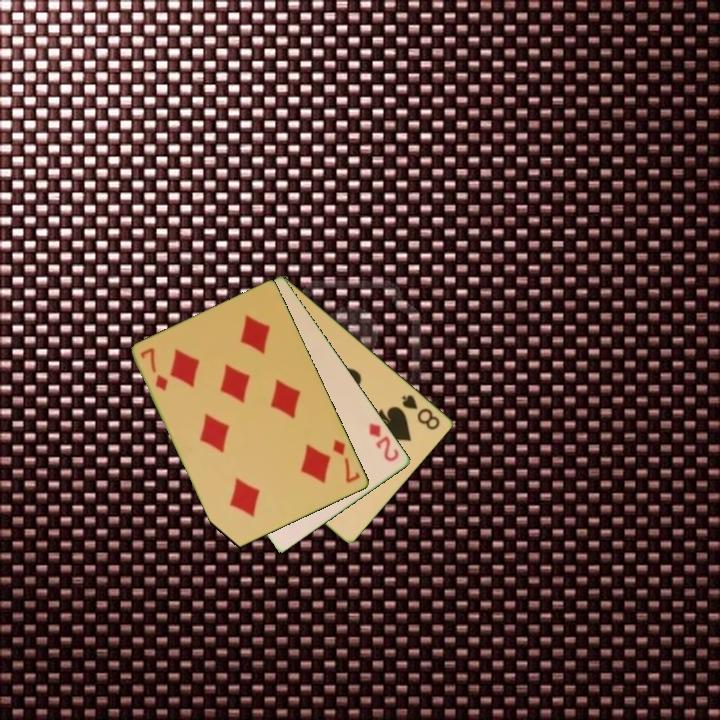2d: (366, 419, 402, 465)
7d: (329, 436, 364, 486), (137, 344, 171, 394)
8s: (399, 391, 443, 433)
